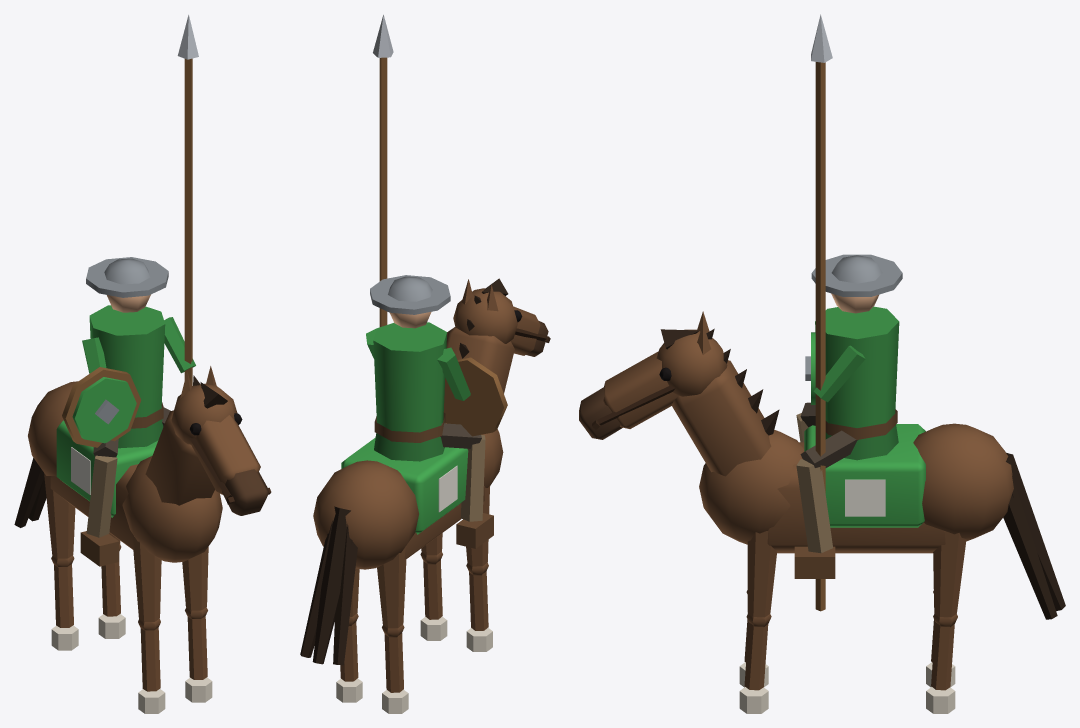
File: assault_dl2_green.glb
3 renders of one model, left to right at view 1: azimuth 30°, elevation 25°; view 2: azimuth 150°, elevation 25°; view 3: azimuth 270°, elevation 25°, orthographic. The views are drawn at different scales.
Parts seen in each view (by area): view 1: assault_dl2_green; view 2: assault_dl2_green; view 3: assault_dl2_green.
Boxes of the visible parts, x1,y1,x2,y2 form: assault_dl2_green: (14,14,271,713); assault_dl2_green: (300,14,550,713); assault_dl2_green: (579,14,1065,713).
Bounding box in the file's own units: 0.2121 × 0.96 × 0.6004.
1 material, 1 textured.
